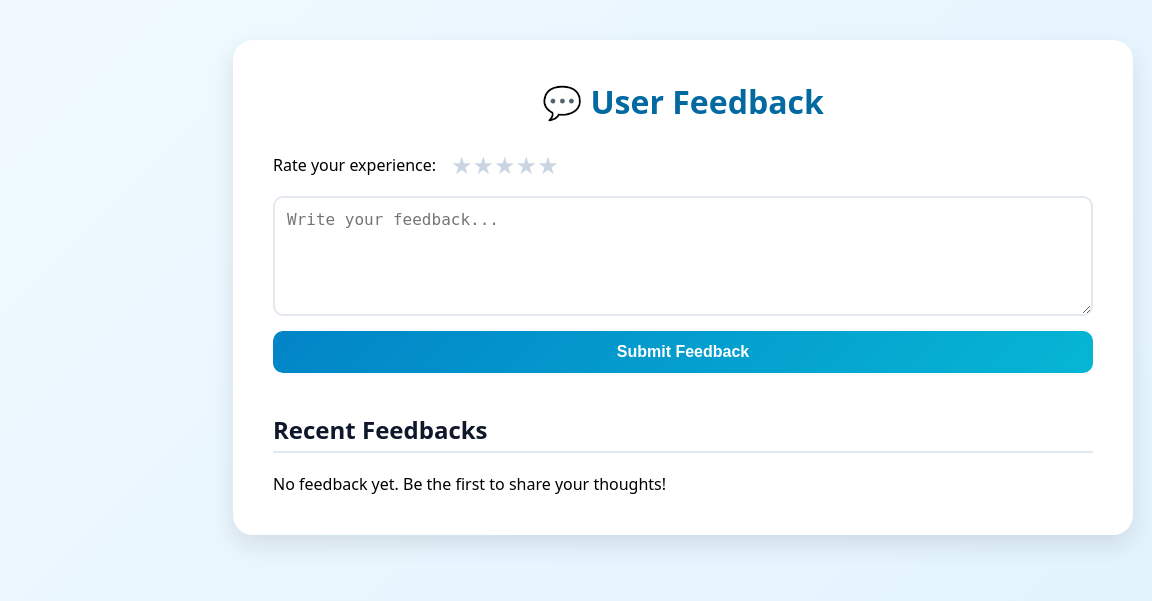
Test: Feedback › the form › refuses to submit without a comment
What coordinates should you click on to do the following:
click the button named "rate 5 out of 5"
I would click on:
 (548, 164)
Its box is [537,148,559,181].
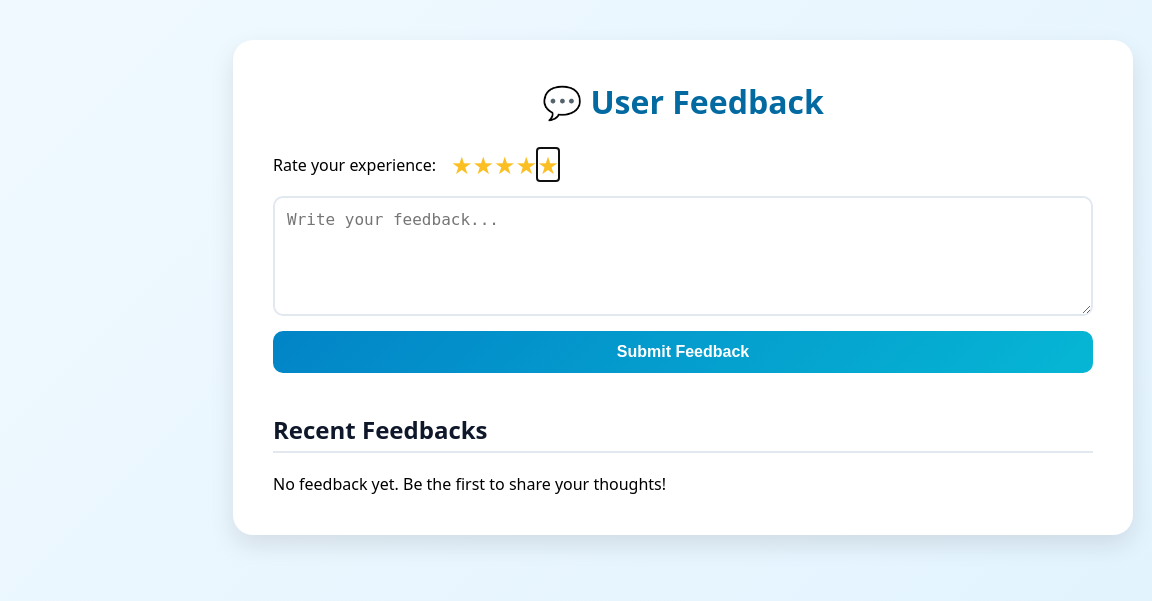
What coordinates should you click on to do the following:
click the button "Submit Feedback"
I would click on:
 (683, 352)
Its box is [273,331,1093,373].
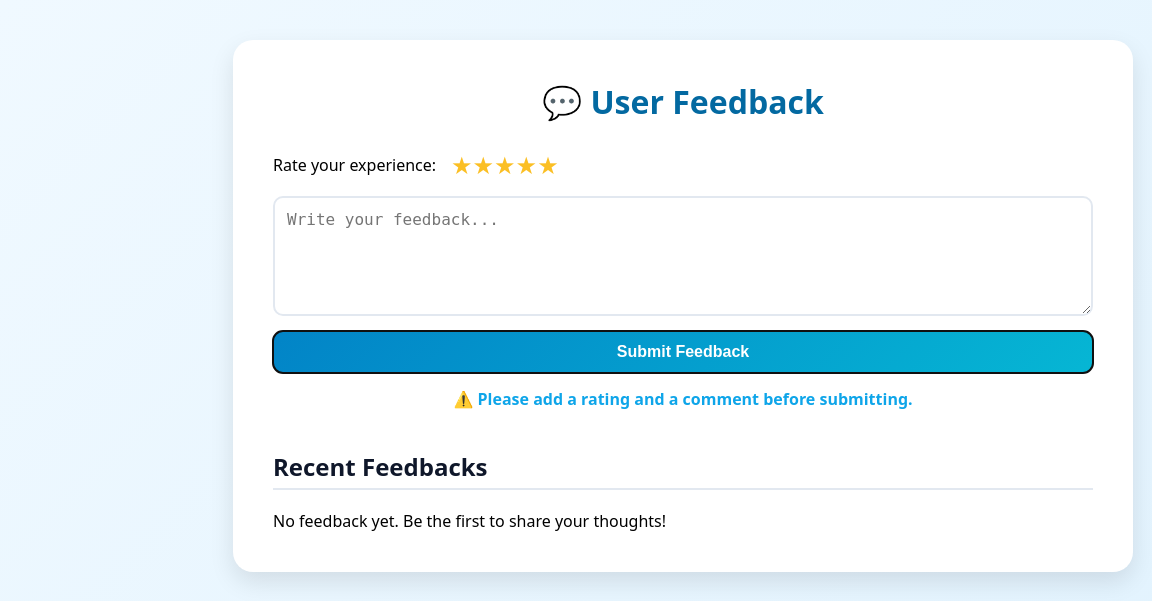
Expected: the text "⚠️ Please add a rating and a comment before submitting." is shown, [453,388,913,410]
